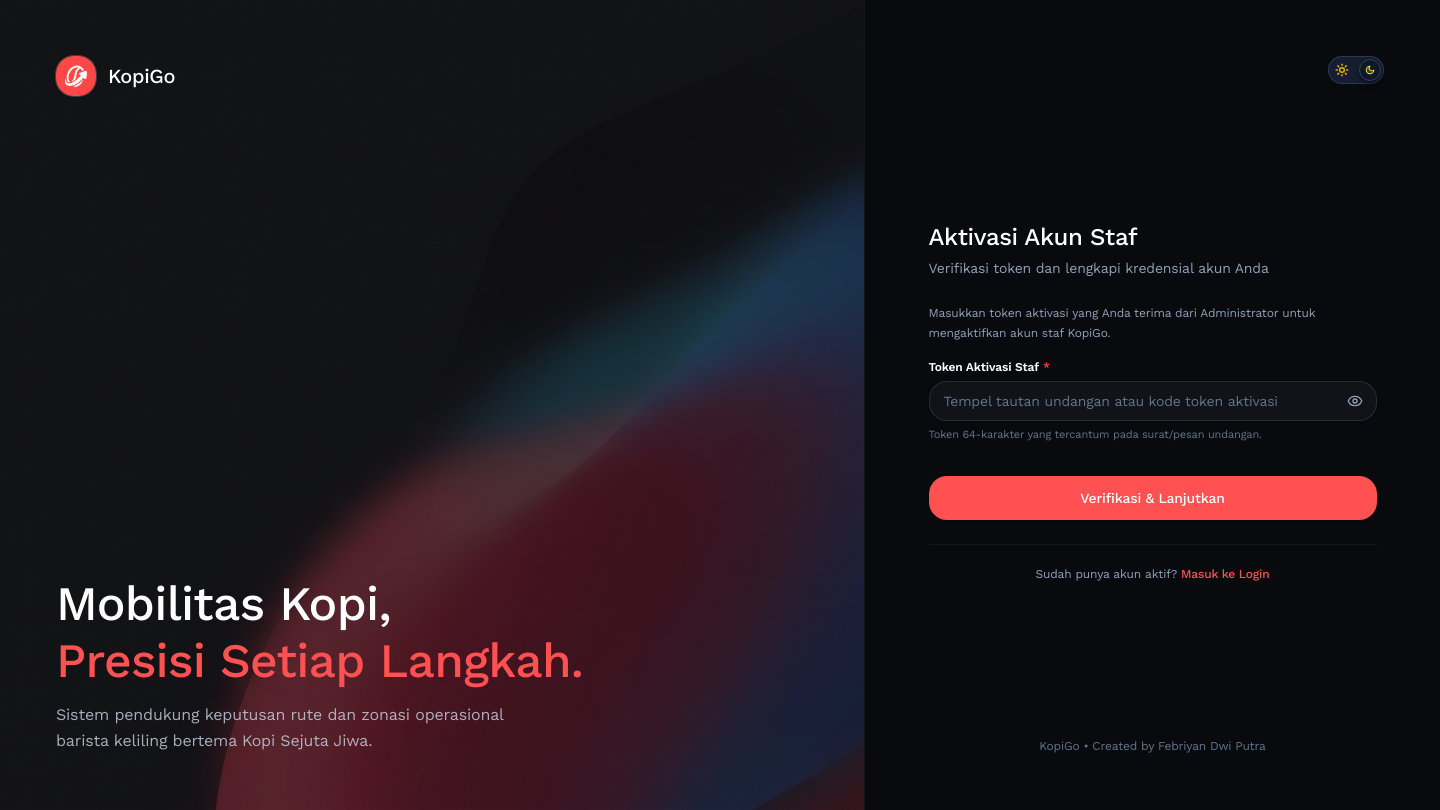
Test: 🚀 MOVA Frontend Onboarding Lifecycle Suite › 3️⃣ Layar A3 — ActivatePage (Staff Account Activation) › verifies manual token input and advances to Step 2 profile form
The width and height of the screenshot is (1440, 810).
Type "manual-token-12345" into the password field labelled "Token Aktivasi Staf *" at {"x": 1152, "y": 401}, box [928, 381, 1376, 421]
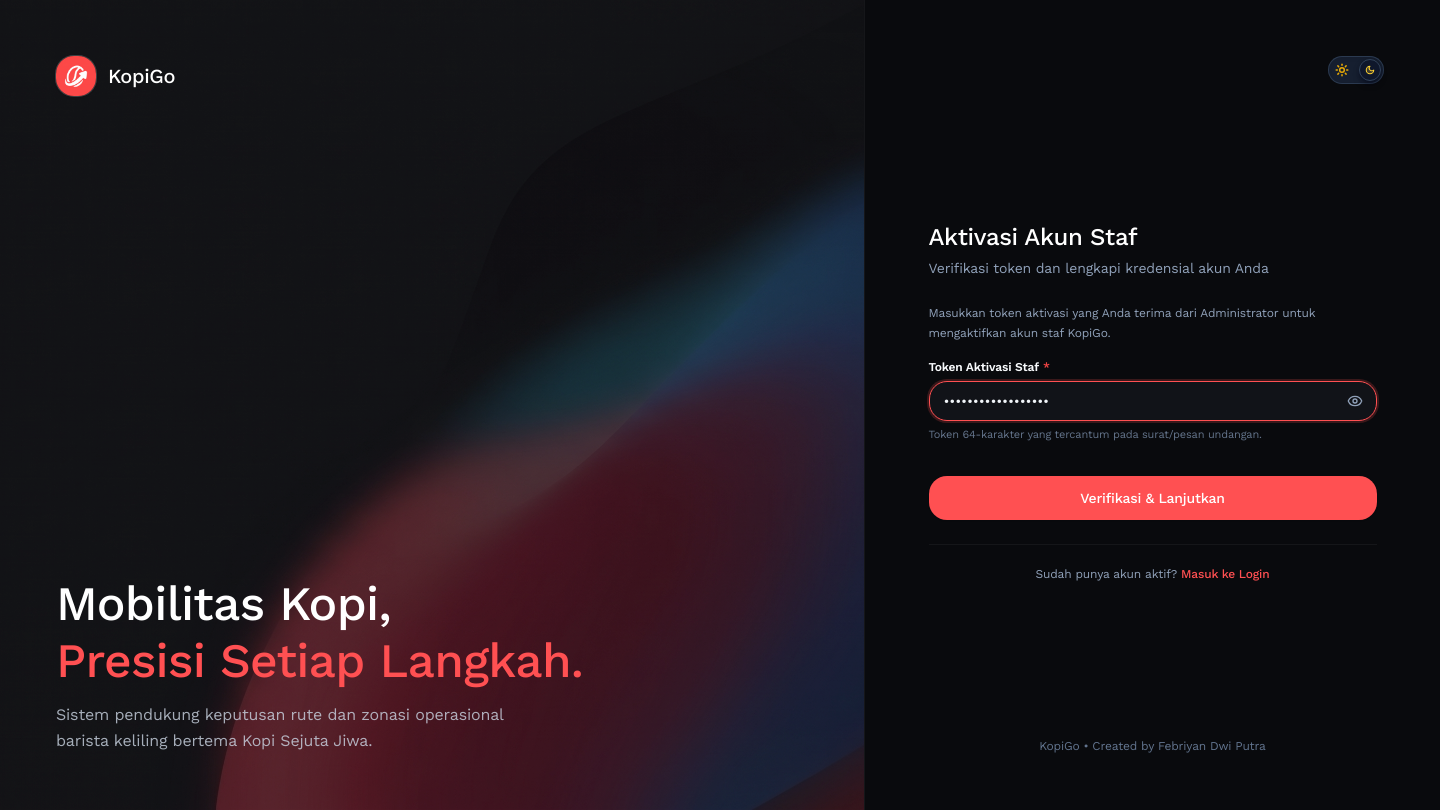
Click the button "Verifikasi & Lanjutkan" at {"x": 1152, "y": 498}, box [928, 476, 1376, 520]
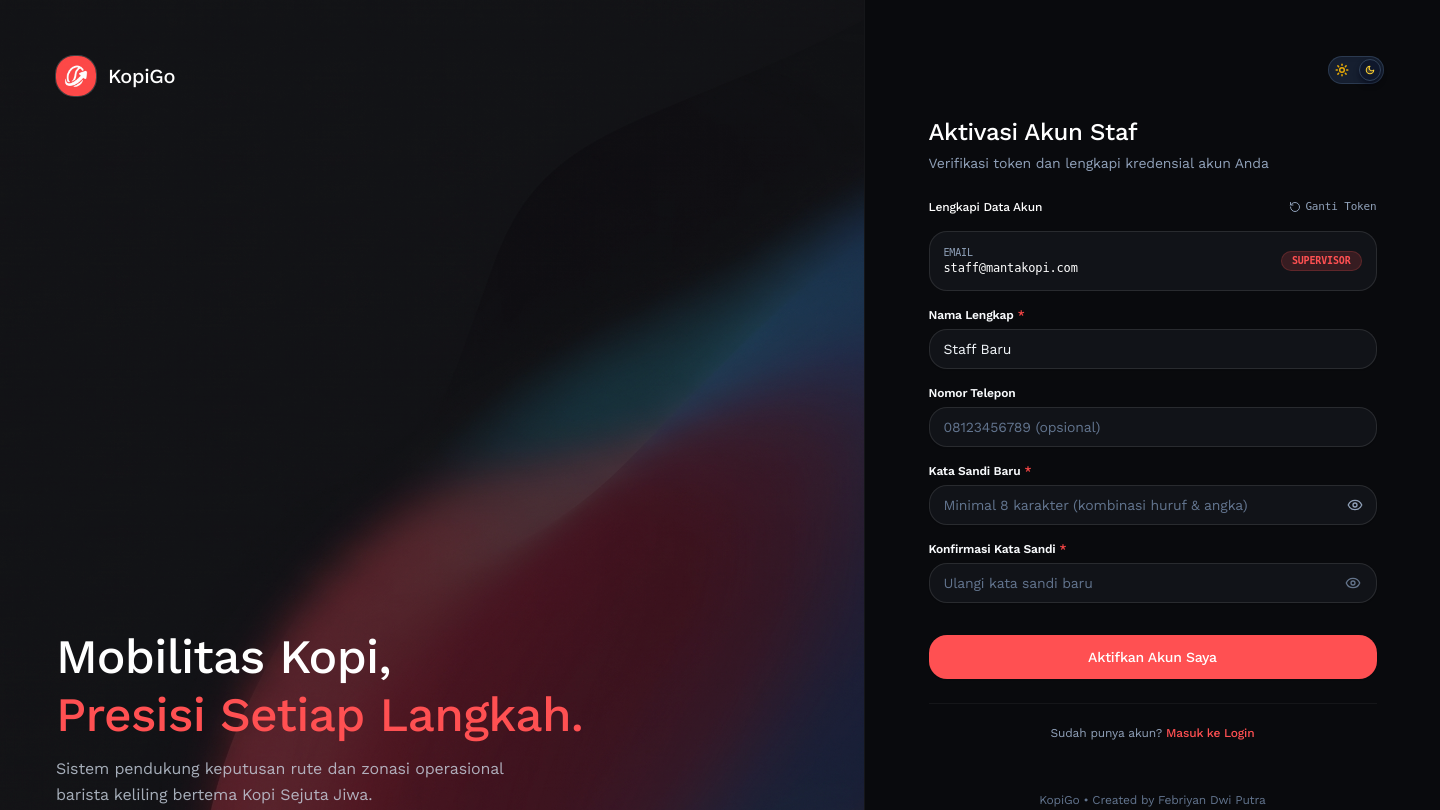
Expected: the text "Lengkapi Data Akun" is shown, [928, 199, 1042, 215]
Expected: the text "staff@mantakopi.com" is shown, [944, 261, 1078, 275]
Expected: the text "SUPERVISOR" is shown, [1281, 251, 1362, 271]
